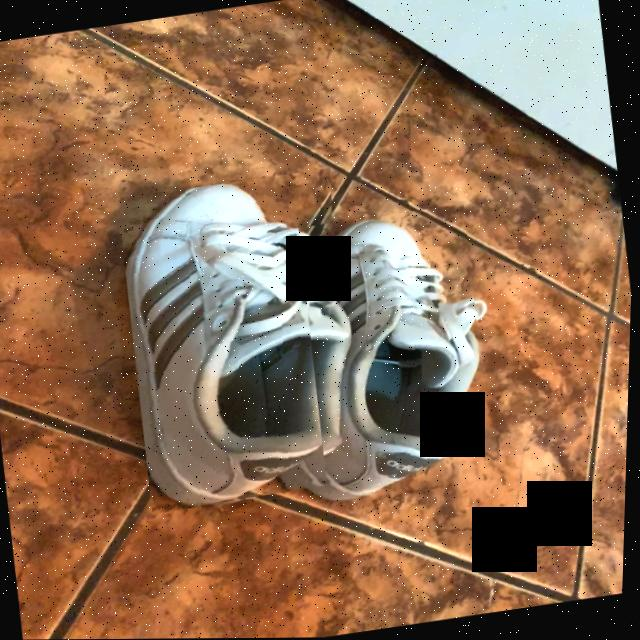shoe: (127, 184, 344, 506), (328, 221, 484, 496)
